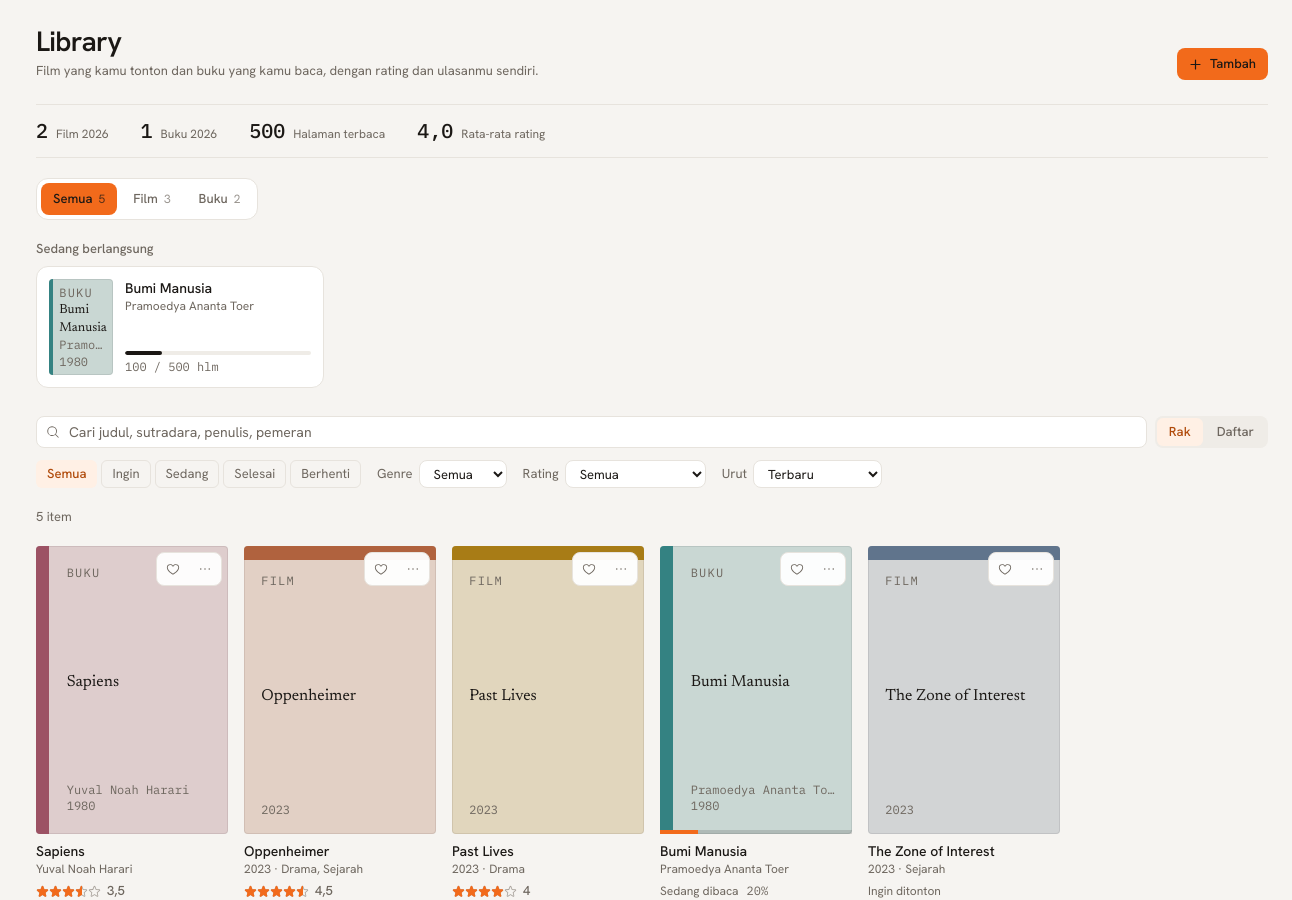
the shelf › switches to the list view
The image size is (1292, 900).
Click the radio button labelled "Daftar". click: (1235, 432)
box: x1=1205 y1=418 x2=1266 y2=446
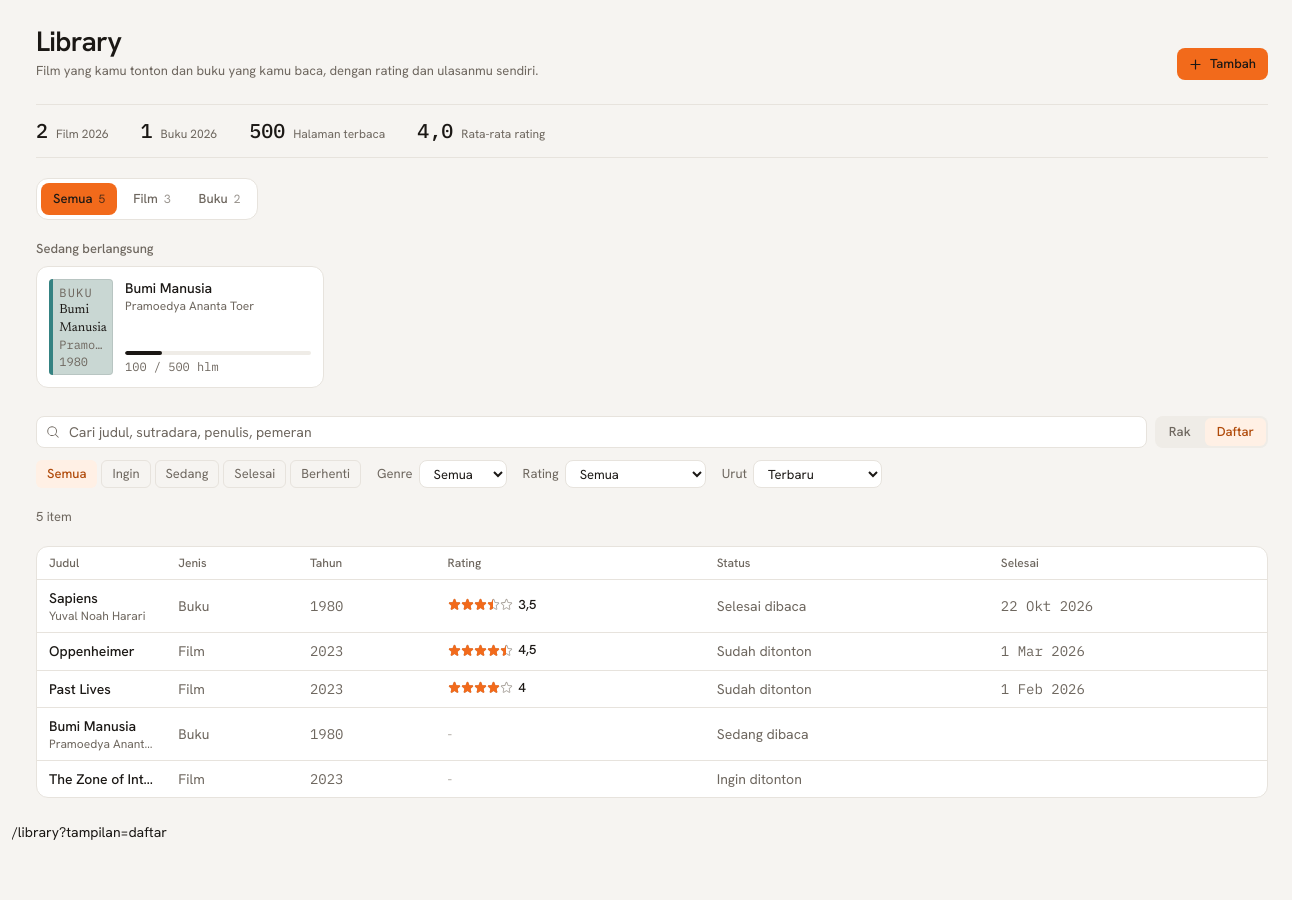
Check: the number of rows is 6, box x1=37 y1=547 x2=1267 y2=580; x1=37 y1=580 x2=1267 y2=632; x1=37 y1=632 x2=1267 y2=670; x1=37 y1=670 x2=1267 y2=708; x1=37 y1=708 x2=1267 y2=760; x1=37 y1=760 x2=1267 y2=797
Check: the text with test id "here" shows "tampilan=daftar", box x1=12 y1=823 x2=167 y2=841
